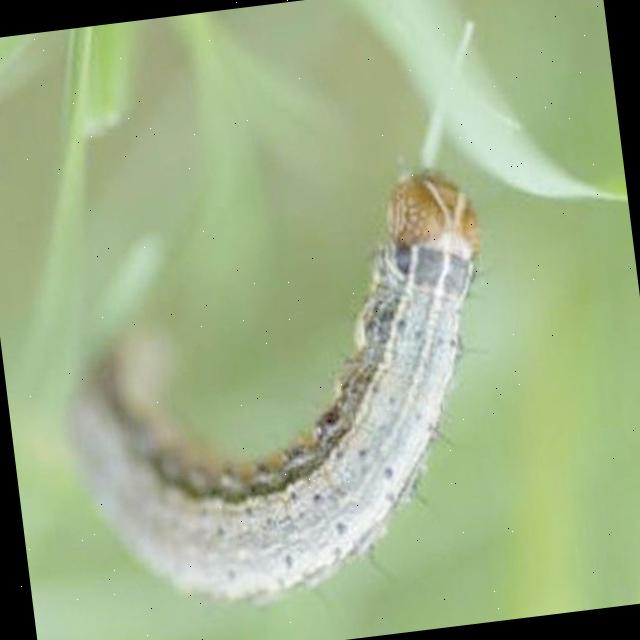worm: (42, 163, 527, 630)
